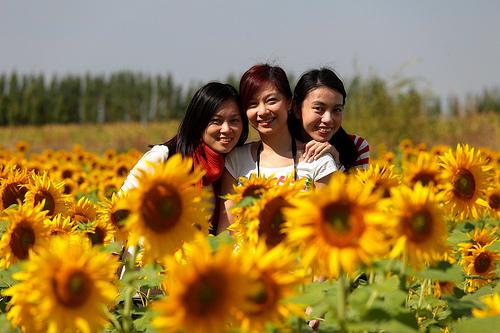sunflower: (3, 235, 122, 333), (283, 173, 389, 276), (432, 141, 494, 222), (23, 169, 66, 227), (0, 171, 30, 214), (463, 246, 500, 280)
